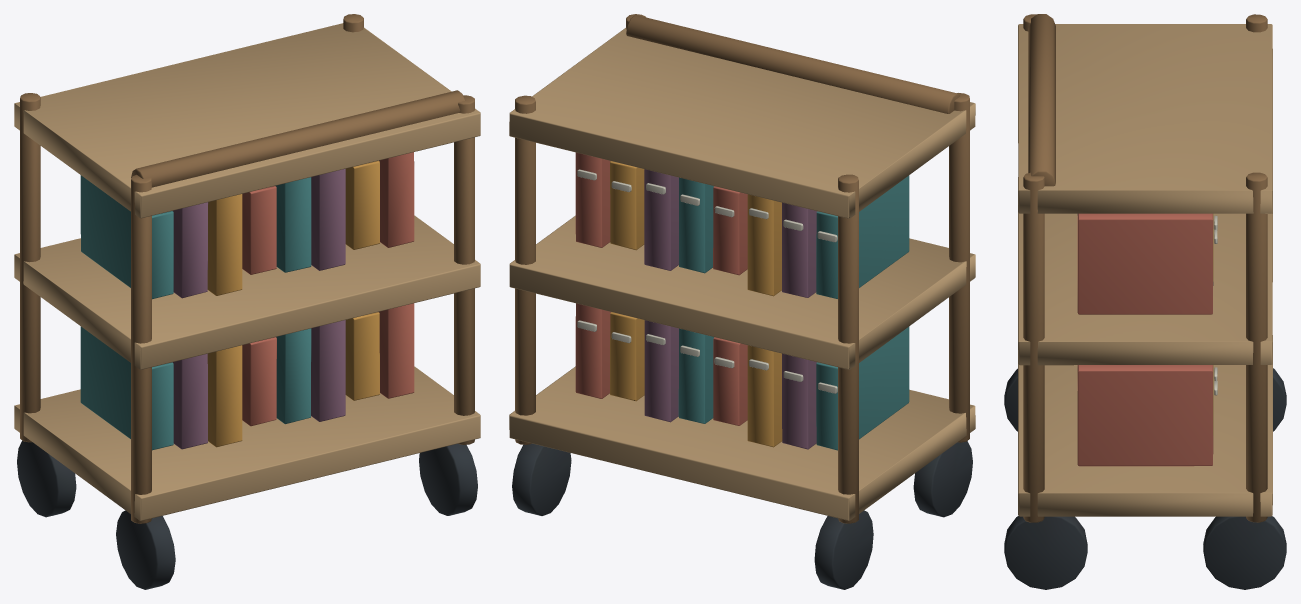
Rendered from bookcart.glb.
3 renders of one model, left to right at view 1: azimuth 30°, elevation 25°; view 2: azimuth 150°, elevation 25°; view 3: azimuth 270°, elevation 25°, orthographic.
Bounding box in the file's own units: 0.9914 × 1.16 × 0.71.
